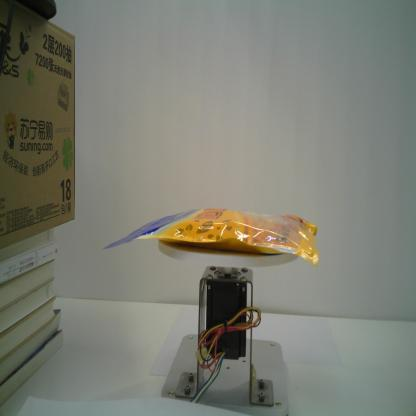Dried Fruit: (102, 203, 320, 271)
